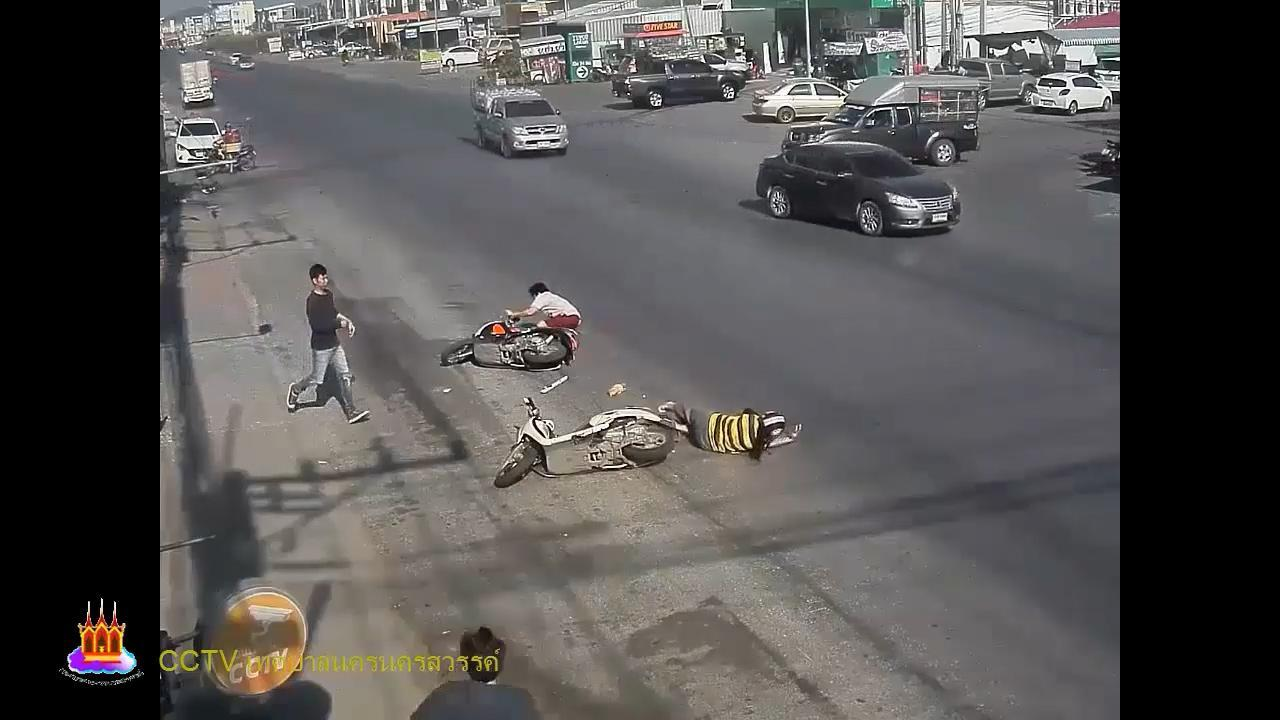accident: (659, 399, 808, 455), (505, 277, 588, 349)
